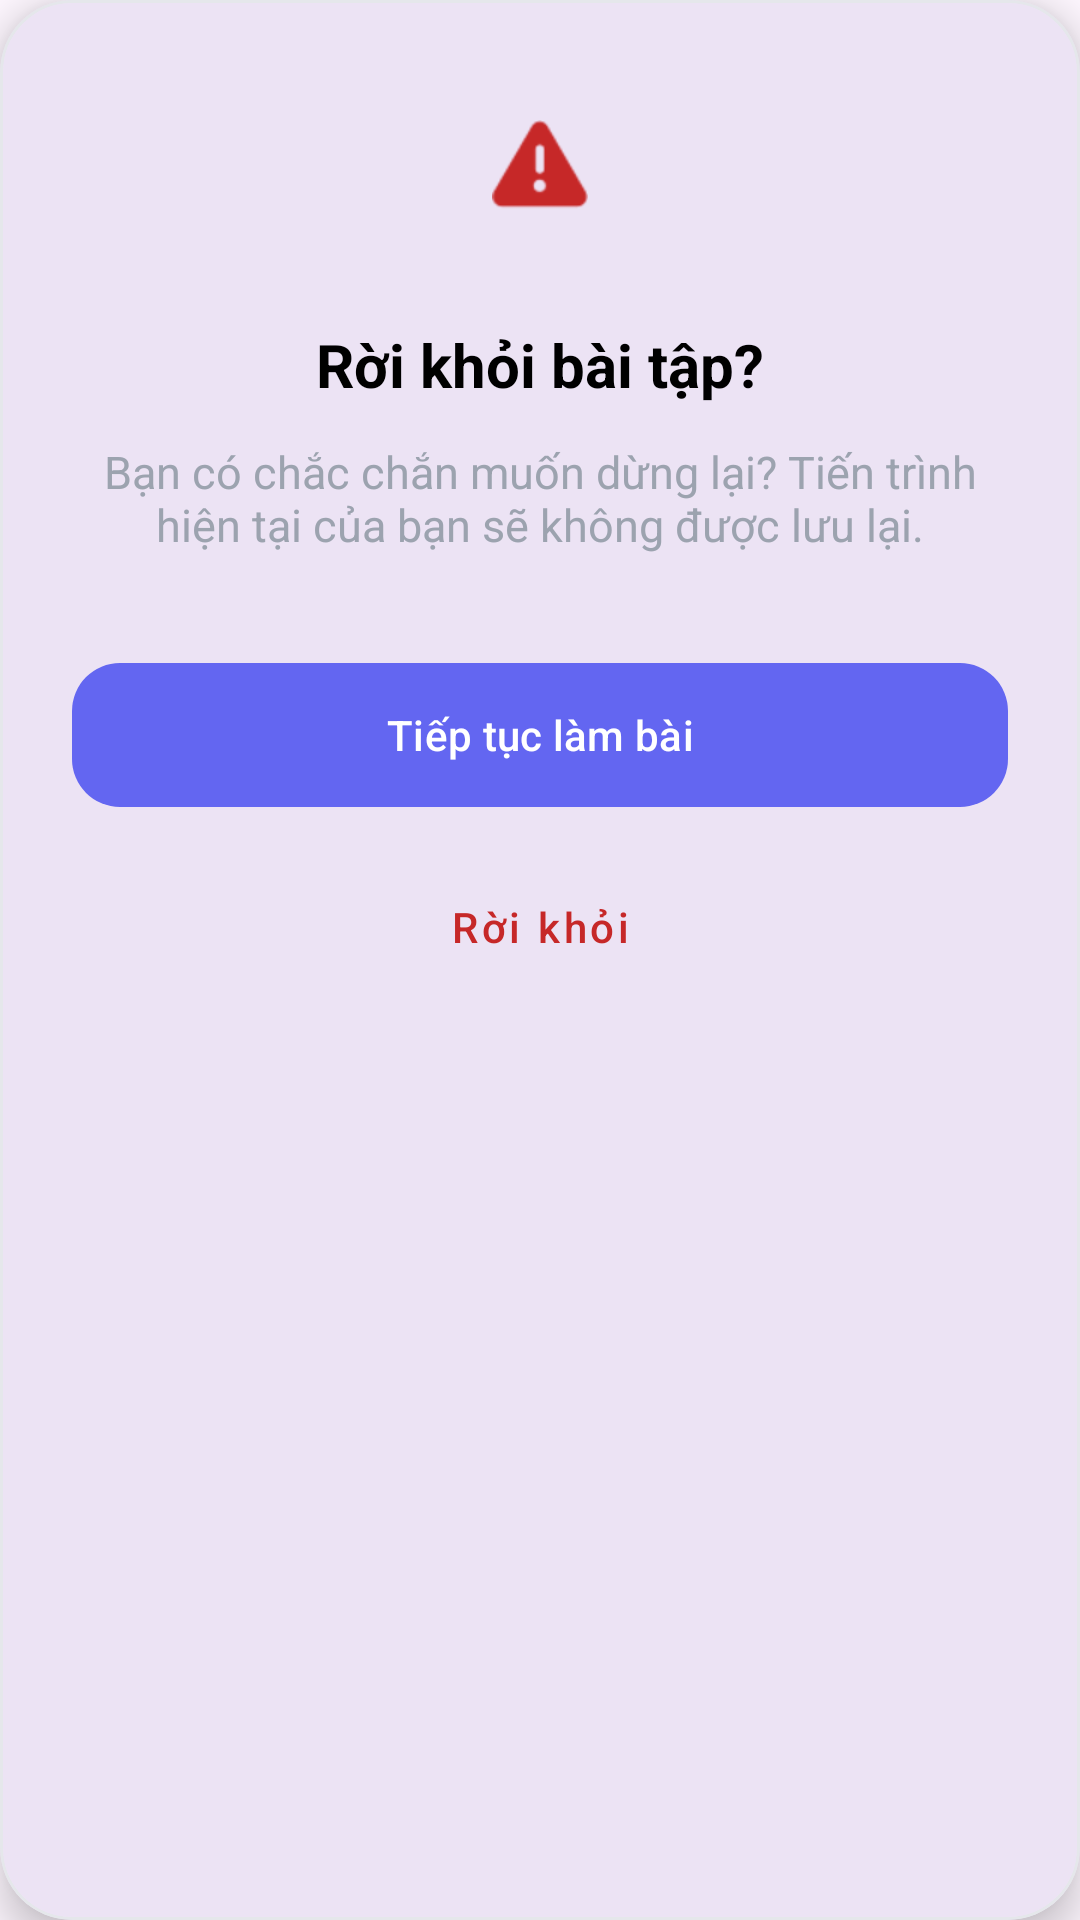

Where icons sit on this 1080w x 1920h app screen, as (x1, y1, x2, y2):
alert: (492, 120, 588, 208)
